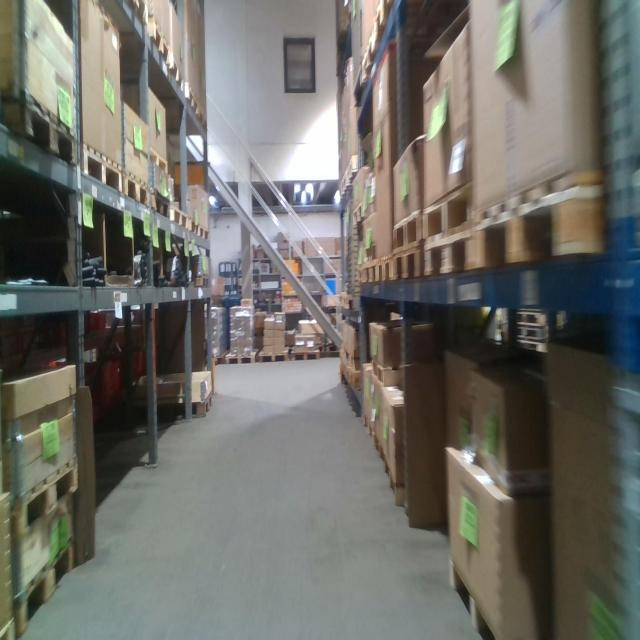pallet: (472, 165, 603, 285), (15, 534, 76, 632), (1, 92, 79, 168), (13, 460, 79, 540), (449, 559, 512, 640), (423, 176, 475, 237), (81, 138, 126, 199), (423, 222, 471, 277), (131, 392, 212, 420), (391, 208, 424, 257), (119, 166, 151, 215), (142, 20, 173, 70), (385, 456, 409, 505), (391, 244, 423, 280), (370, 358, 406, 387), (114, 1, 148, 28), (144, 145, 170, 179), (168, 57, 186, 97), (182, 85, 200, 125), (147, 187, 169, 219), (165, 204, 188, 234), (376, 251, 394, 284), (374, 432, 388, 473), (225, 348, 257, 364), (257, 348, 288, 362), (359, 261, 375, 284), (290, 350, 320, 361), (185, 218, 201, 238)
